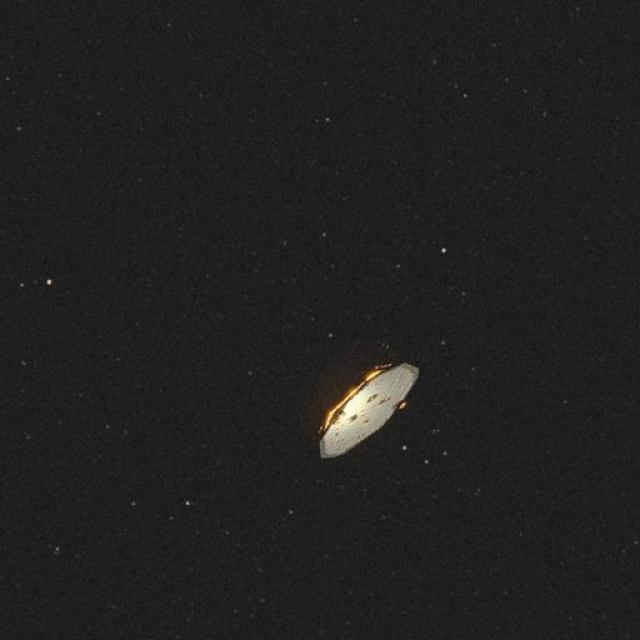lisa_pathfinder: (289, 323, 441, 482)
